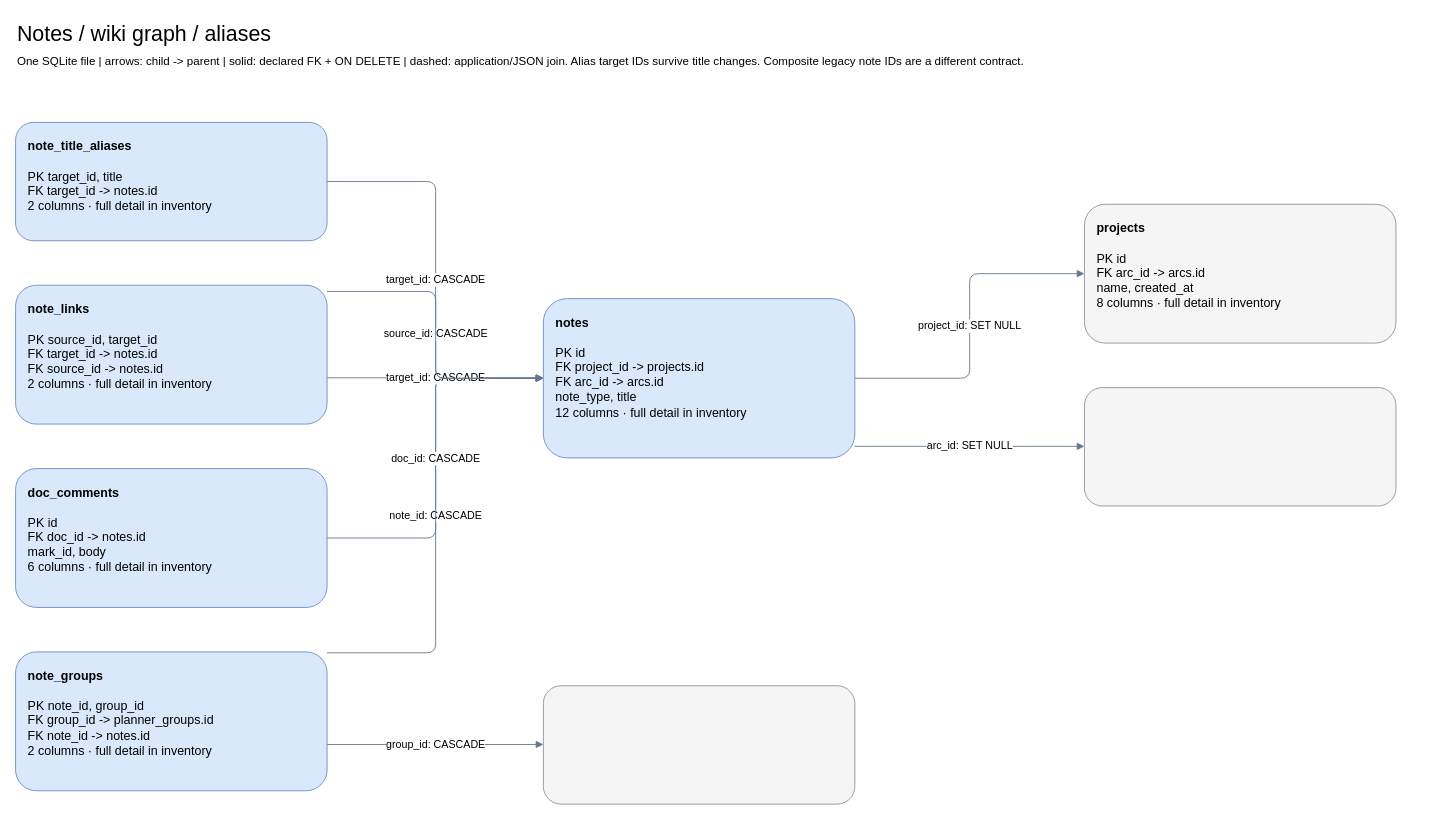
The diagram is 1447 pixels wide and 820 high, and some of its shapes have lost their labels. The centre of each missing label's shape, as x and y in pixels:
"arcs PK id name, color_hex 6 columns · full detail in inventory" belongs at (1240,446).
"planner_groups PK id name, color_hex 6 columns · full detail in inventory" belongs at (698,744).
